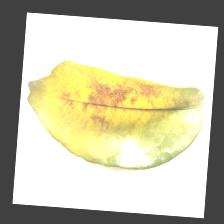black spot: (62, 84, 155, 132)
